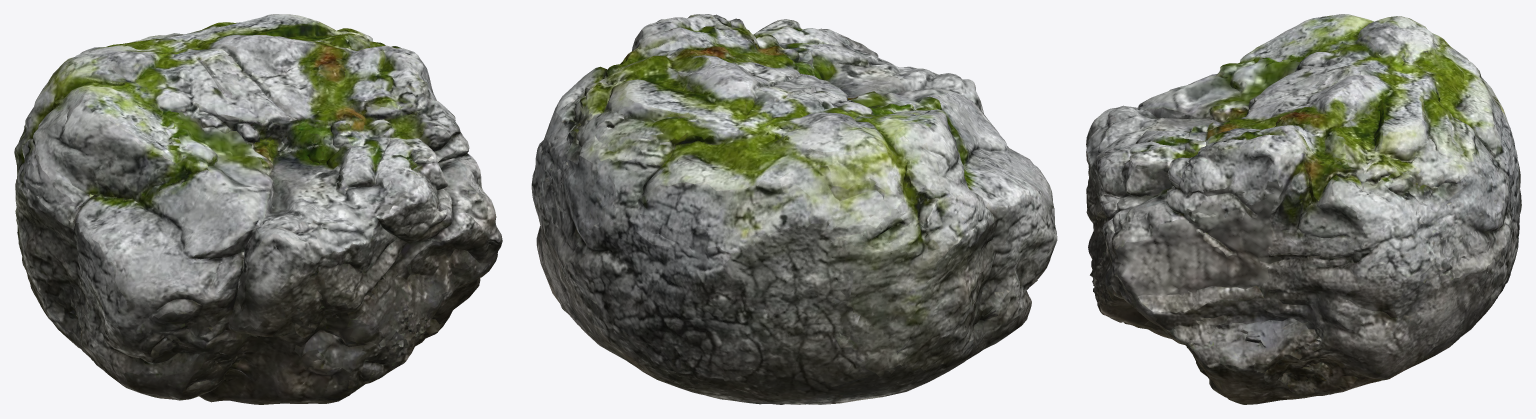
File: wet-boulder-lod.glb
3 renders of one model, left to right at view 1: azimuth 30°, elevation 25°; view 2: azimuth 150°, elevation 25°; view 3: azimuth 270°, elevation 25°, orthographic. The views are drawn at different scales.
Visible parts, largest first — view 1: geometry_0; view 2: geometry_0; view 3: geometry_0.
Part boxes in pixels (box(x1,y1,x2,y2)): geometry_0: box(14, 14, 502, 404); geometry_0: box(531, 14, 1057, 404); geometry_0: box(1086, 14, 1521, 404).
Bounding box in the file's own units: 0.8 × 0.5545 × 0.7939.
1 material, 1 textured.
